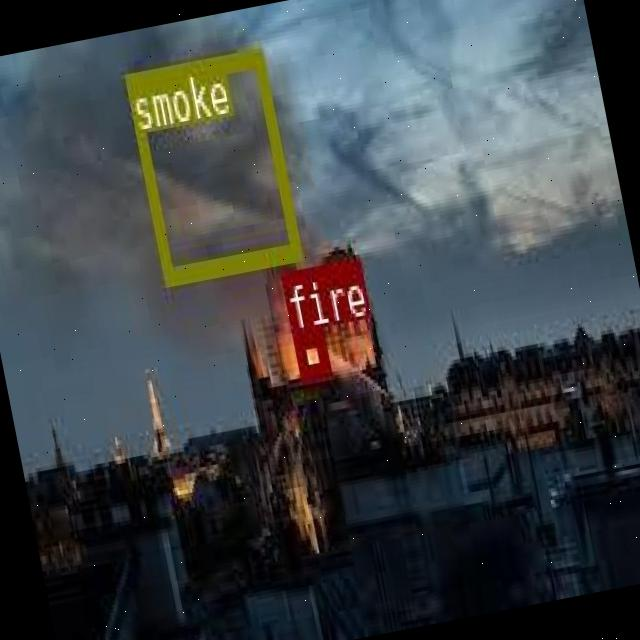fire: (291, 326, 331, 382)
smoke: (123, 48, 300, 281)
